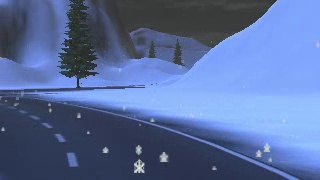Lane: (0, 86, 295, 179)
